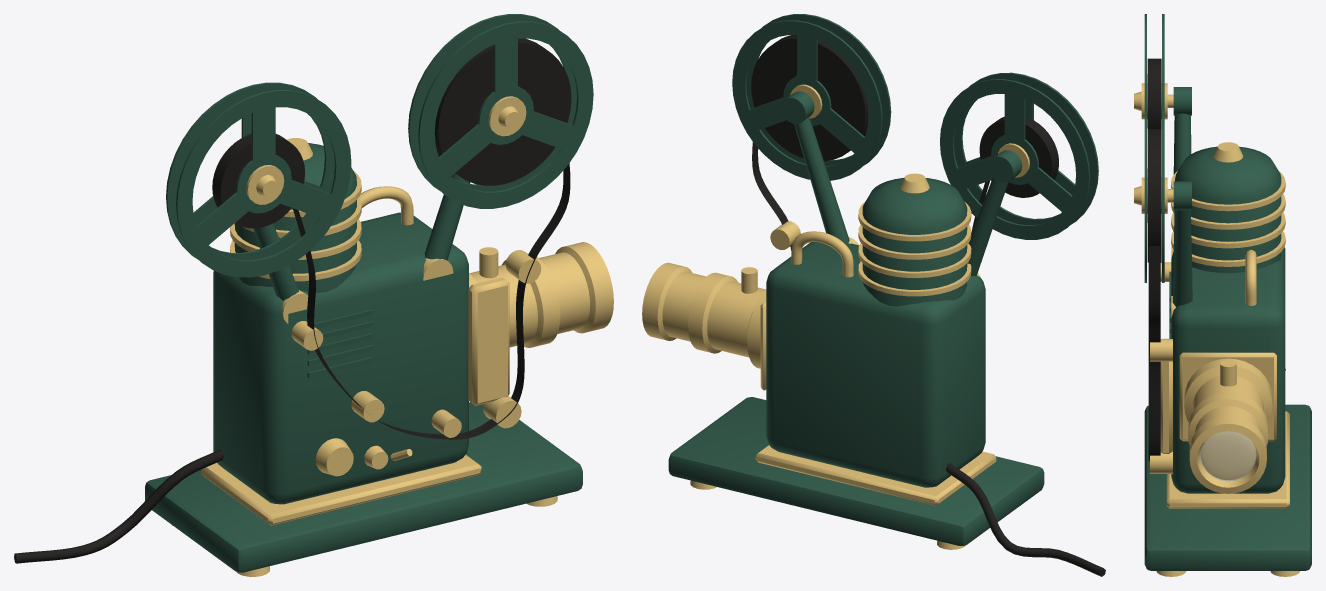
Rendered from projector.glb.
3 renders of one model, left to right at view 1: azimuth 30°, elevation 25°; view 2: azimuth 150°, elevation 25°; view 3: azimuth 270°, elevation 25°, orthographic. The views are drawn at different scales.
Parts seen in each view (by area): view 1: projector_body, reel_front, reel_rear, film_strip; view 2: projector_body, reel_front, reel_rear, film_strip; view 3: projector_body, reel_front, film_strip, lens_glass, reel_rear.
Part boxes in pixels (x1,y1,x2,y2): projector_body: (14, 138, 613, 576); reel_front: (408, 14, 593, 208); reel_rear: (166, 82, 351, 277); film_strip: (292, 163, 570, 439); projector_body: (642, 91, 1105, 576); reel_front: (732, 14, 891, 180); reel_rear: (940, 72, 1098, 239); film_strip: (752, 142, 990, 250); projector_body: (1144, 87, 1311, 576); reel_front: (1134, 108, 1167, 282); film_strip: (1148, 246, 1160, 461); lens_glass: (1200, 431, 1256, 481); reel_rear: (1134, 14, 1167, 128).
Size of the model in its own units: 0.7245 by 0.629 by 0.234.
